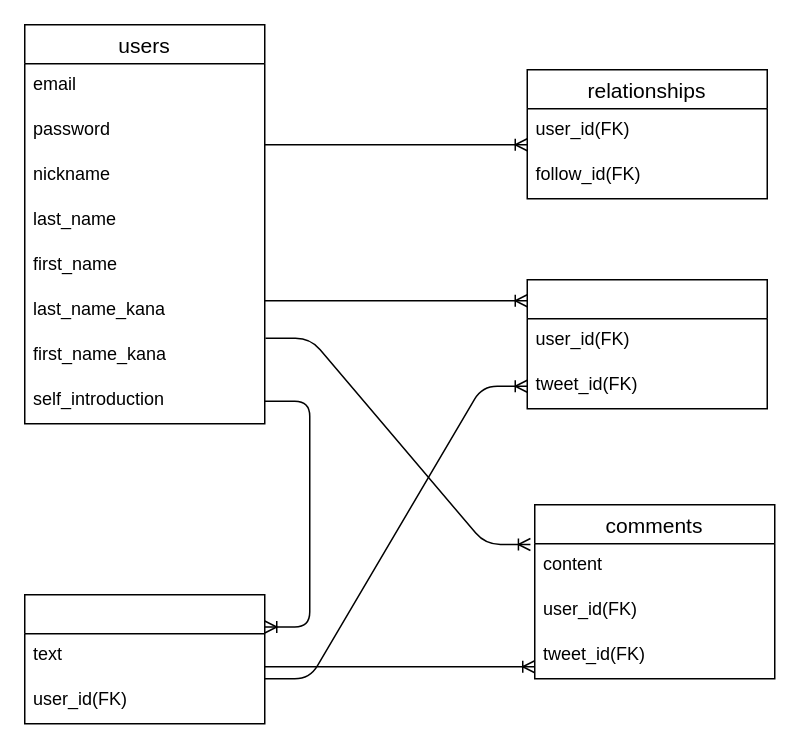
Image size: 800x749. Some labels were removed from this diagram. Here are the shapes that lost their labels. From the top down, the box of each, then its label:
(526, 278, 767, 409): likes
(23, 593, 265, 724): tweets
